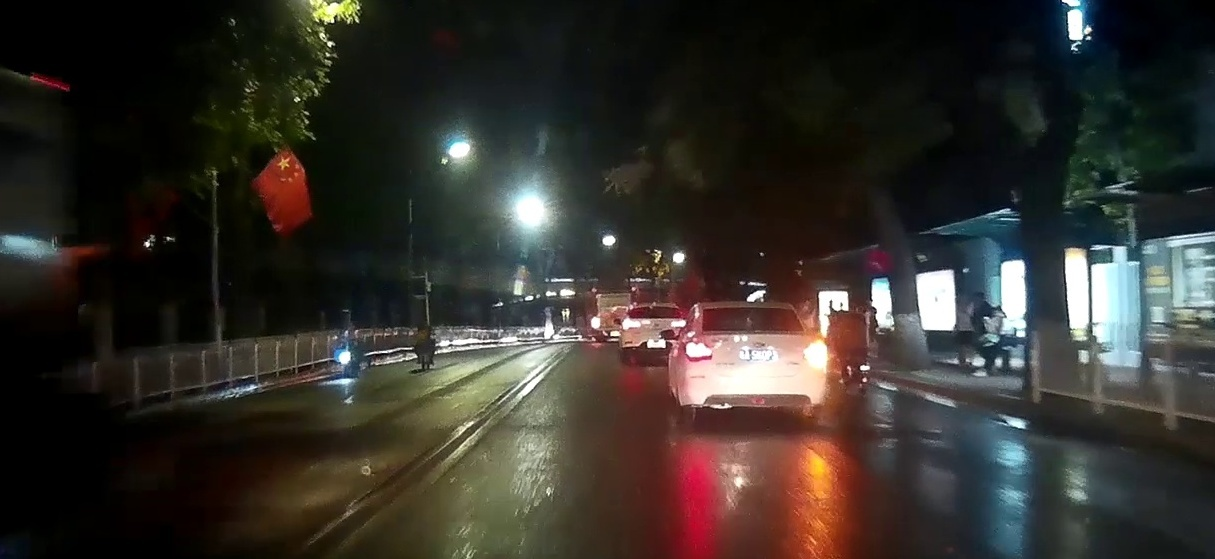L_light: (685, 341, 713, 362)
R_light: (804, 343, 826, 362)
T_light: (744, 308, 761, 312)
night-right: (679, 300, 827, 424)
